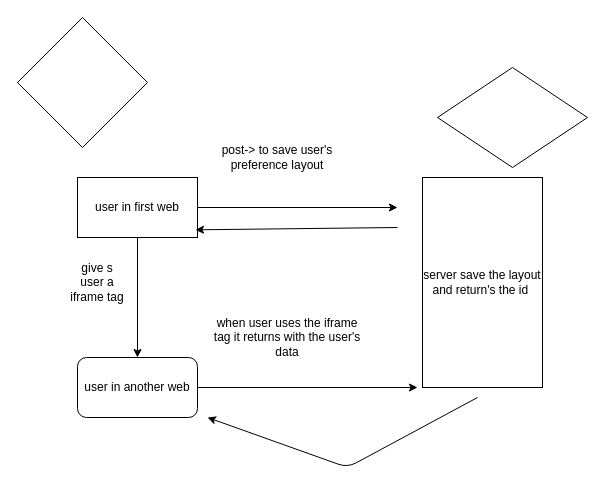
This 605x493 diagram has some shape labels left out. The centre of each missing label's shape, as x and y in pixels:
Server: the point at 512,117
User: the point at 82,82
